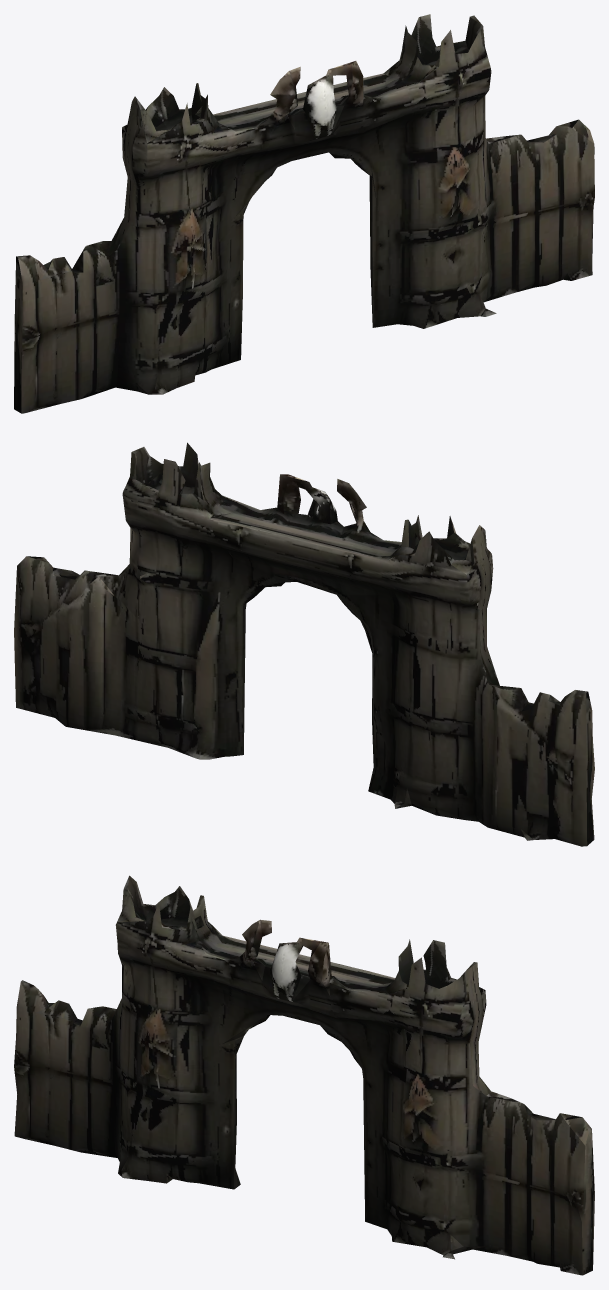
The model's file is goblin_gate_lod.glb.
The picture shows the model from 3 angles, top to bottom: view 1: azimuth 30°, elevation 25°; view 2: azimuth 150°, elevation 25°; view 3: azimuth 330°, elevation 25°; orthographic projection.
Parts seen in each view (by area): view 1: goblin_gate; view 2: goblin_gate; view 3: goblin_gate.
Part boxes in pixels (x1=…): goblin_gate: x1=14, y1=14, x2=594, y2=413; goblin_gate: x1=14, y1=442, x2=594, y2=846; goblin_gate: x1=14, y1=875, x2=594, y2=1275.
Bounding box in the file's own units: 7.19 × 3.52 × 0.8169.
1 material, 1 textured.
